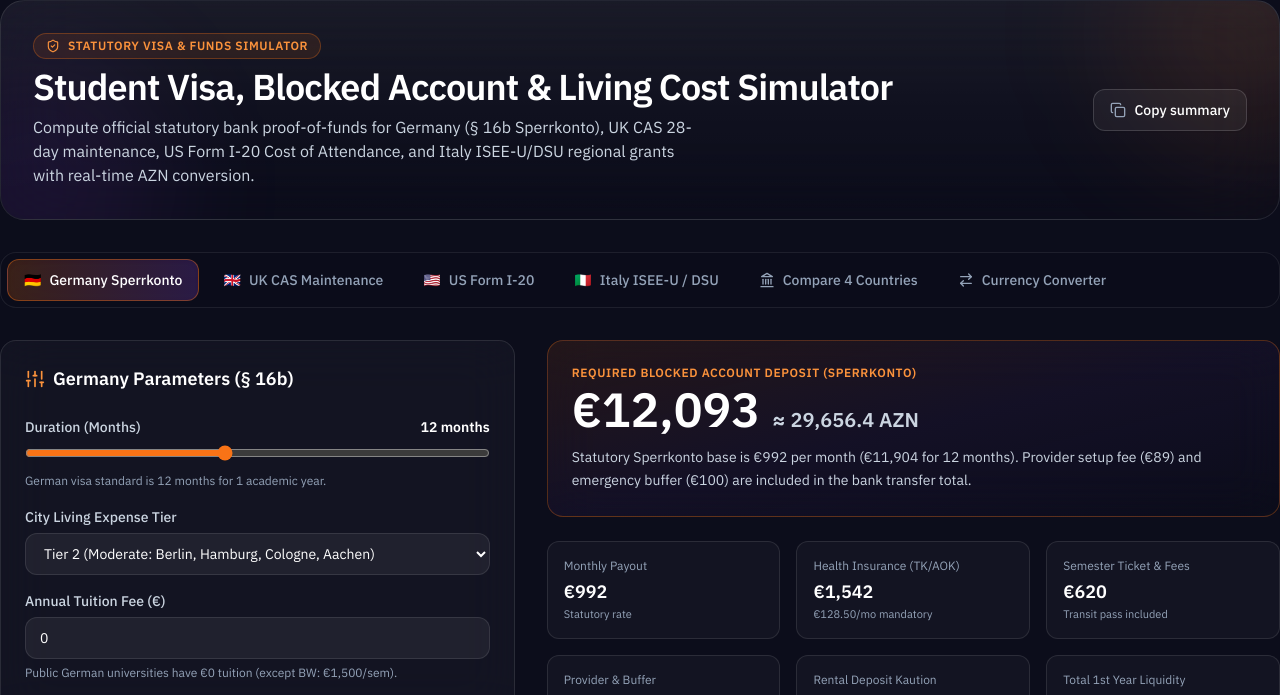
FinanceSimulator Component › switches to Italy tab and displays ISEE-U DSU assessment
This screenshot has width=1280, height=695.
Click the button "🇮🇹 Italy ISEE-U / DSU".
click(646, 280)  # box [558,259,735,301]
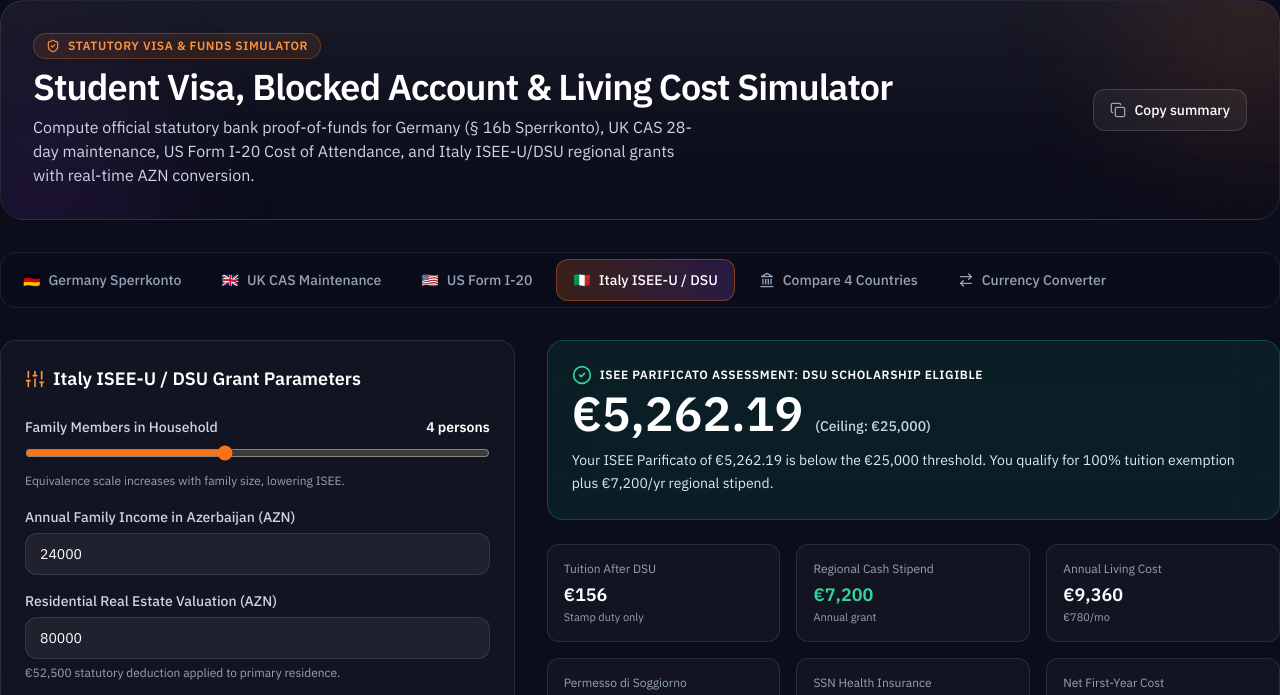
Expected: the heading "Italy ISEE-U / DSU Grant Parameters" is shown, [25,367,361,390]
Expected: the text "ISEE Parificato Assessment: DSU SCHOLARSHIP ELIGIBLE" is shown, [600,367,983,383]
Expected: the text "Regional Cash Stipend" is shown, [813,560,934,576]
